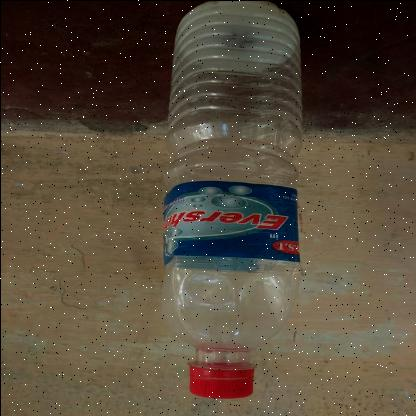Plastic Bottle: (160, 1, 304, 398)
